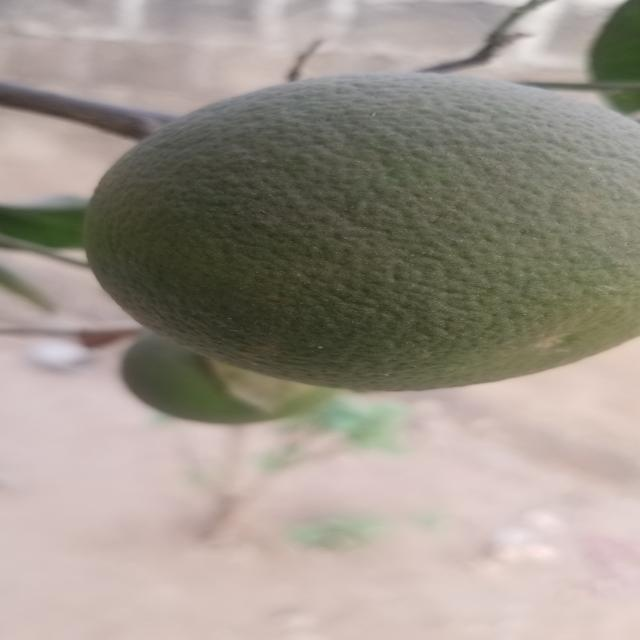agrume: (85, 76, 640, 391)
